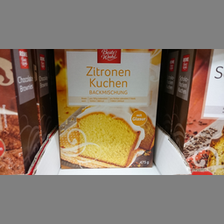cake: (54, 49, 161, 170)
